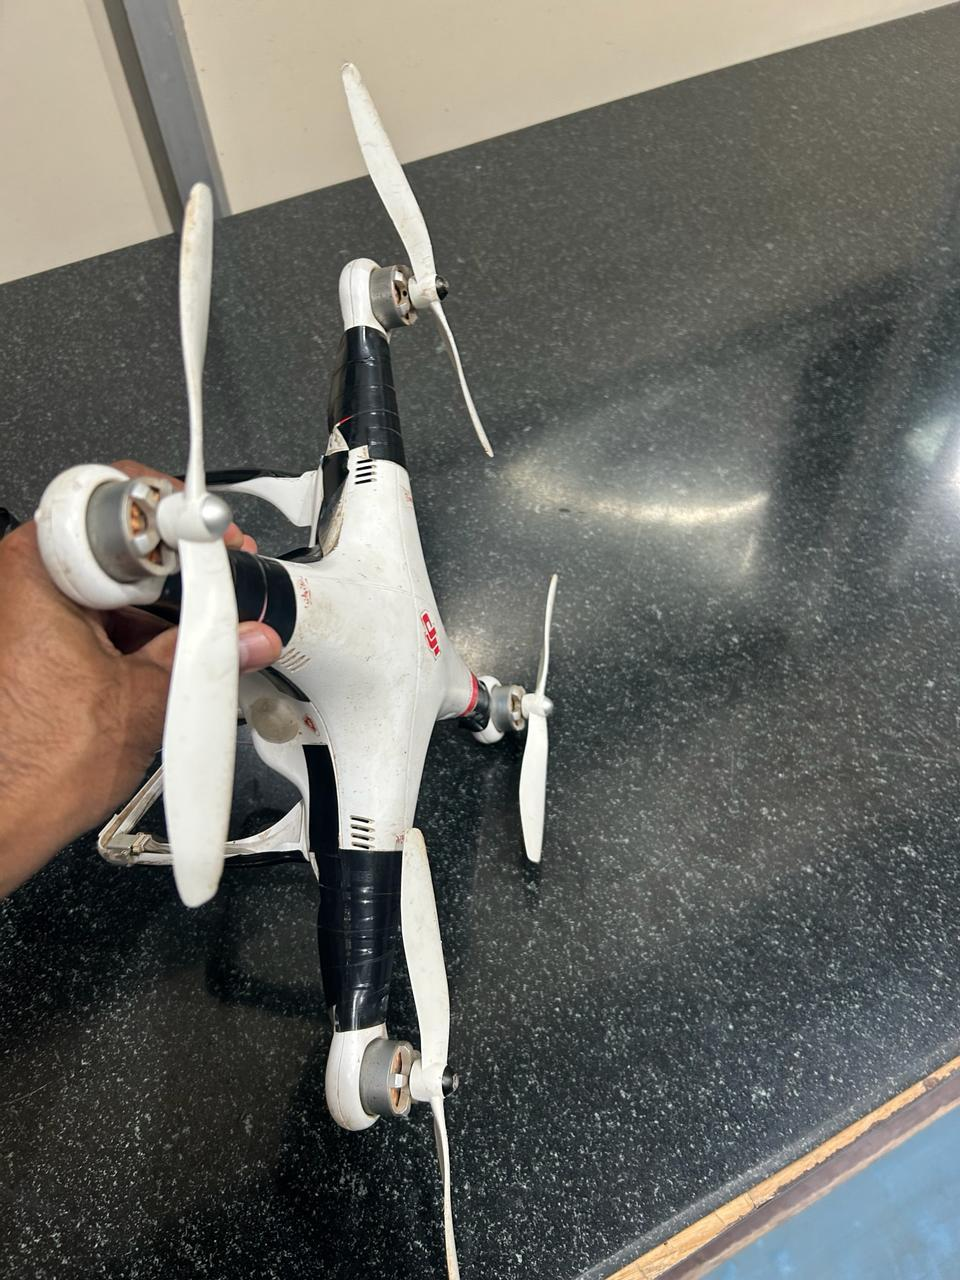drone: (0, 50, 631, 1218)
